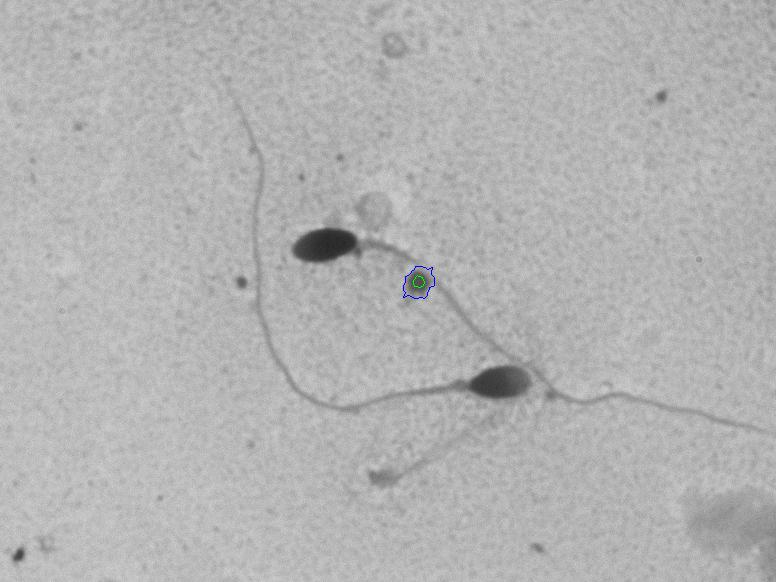Abnormal: (278, 189, 478, 289)
Normal: (180, 59, 544, 429)
